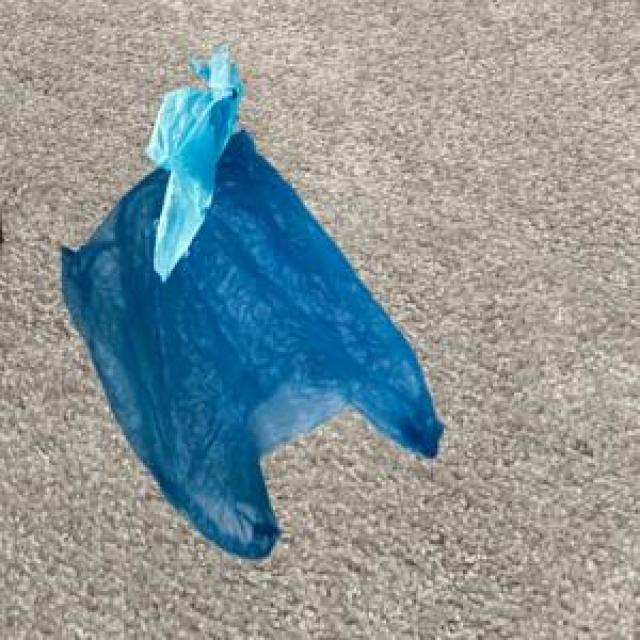plastic: (29, 42, 465, 586)
